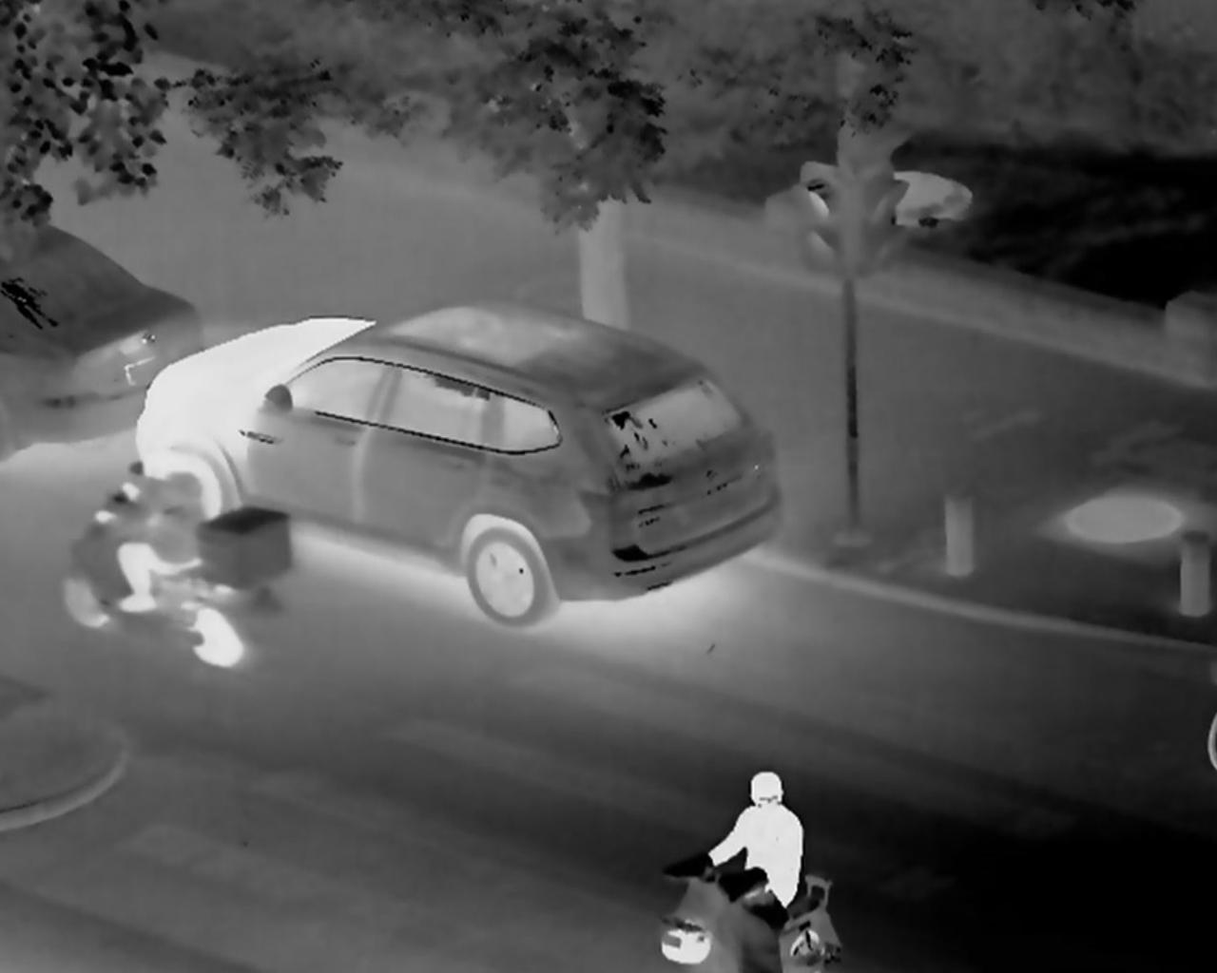person: (92, 434, 204, 607), (693, 767, 805, 918)
